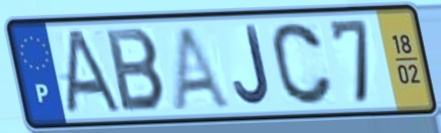7: (327, 17, 374, 107)
A: (169, 23, 236, 111), (61, 27, 126, 116)
B: (102, 26, 170, 114)
C: (269, 20, 337, 108)
J: (231, 23, 274, 109)
